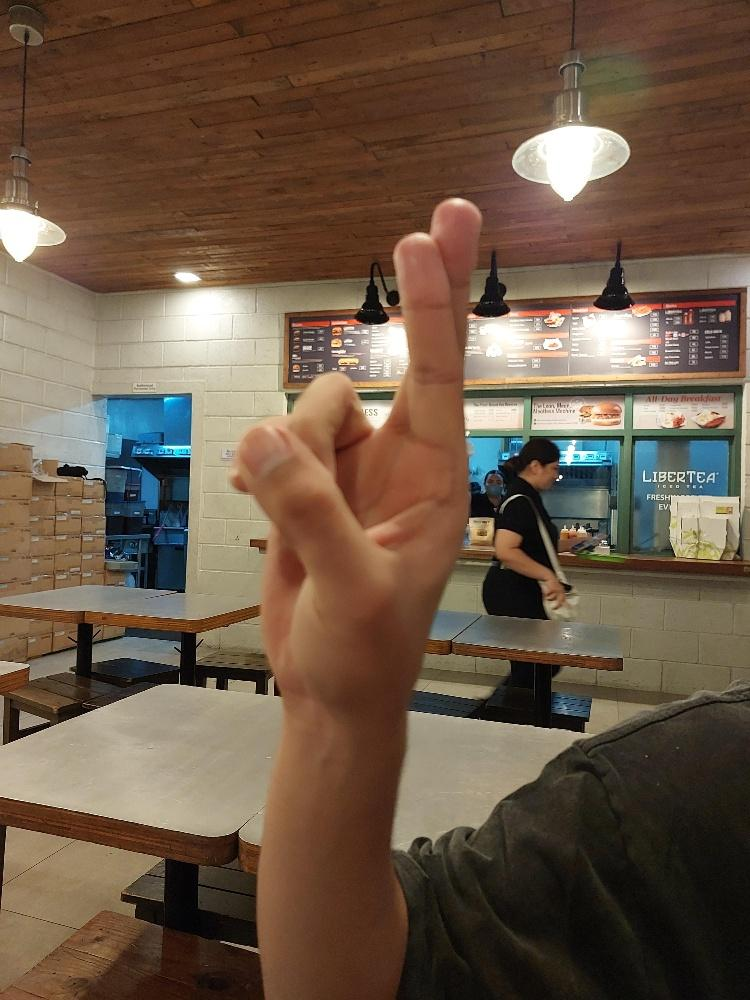r: (224, 193, 482, 705)
